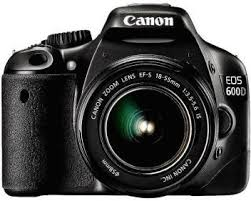camera: (3, 19, 245, 195)
